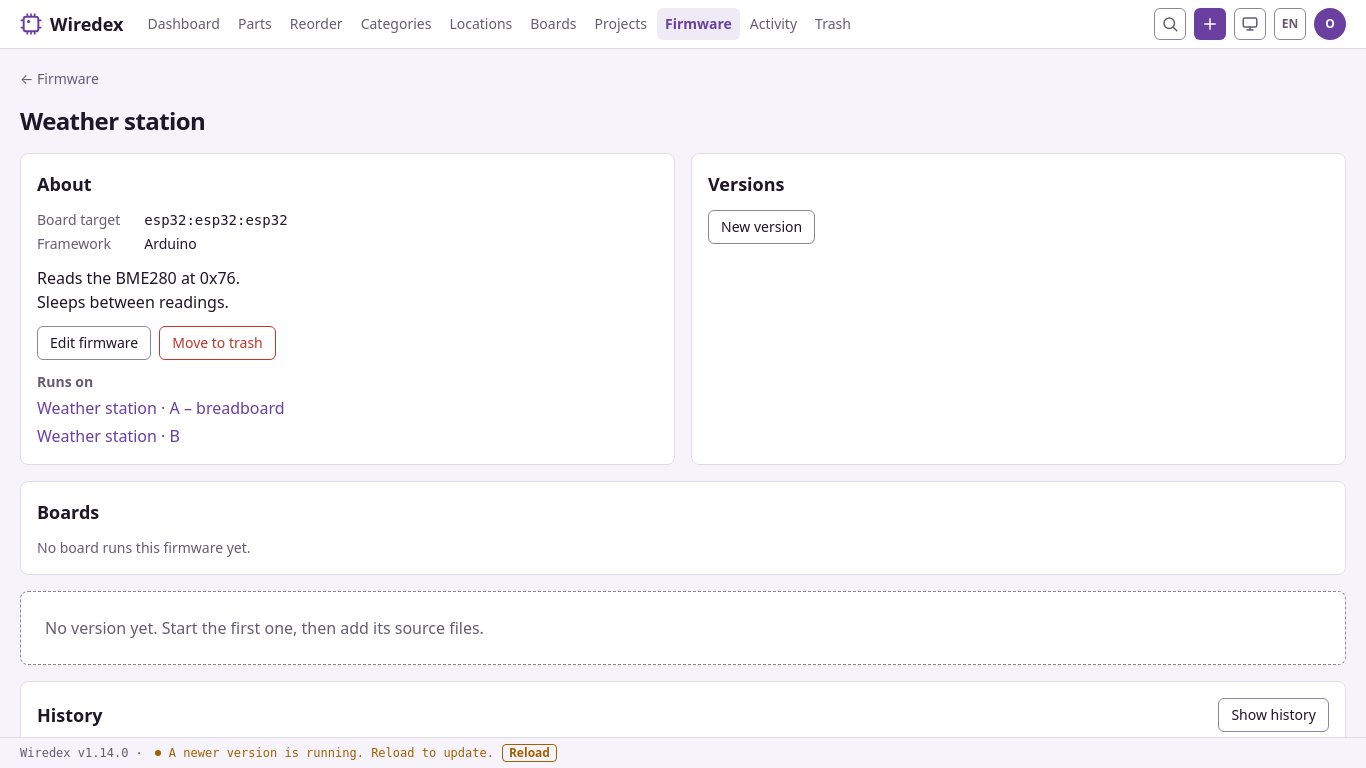
Test: FirmwarePage › keeps the firmware when the question is answered no
The image size is (1366, 768).
Click the button "Move to trash". click: (218, 343)
box: [159, 326, 276, 360]
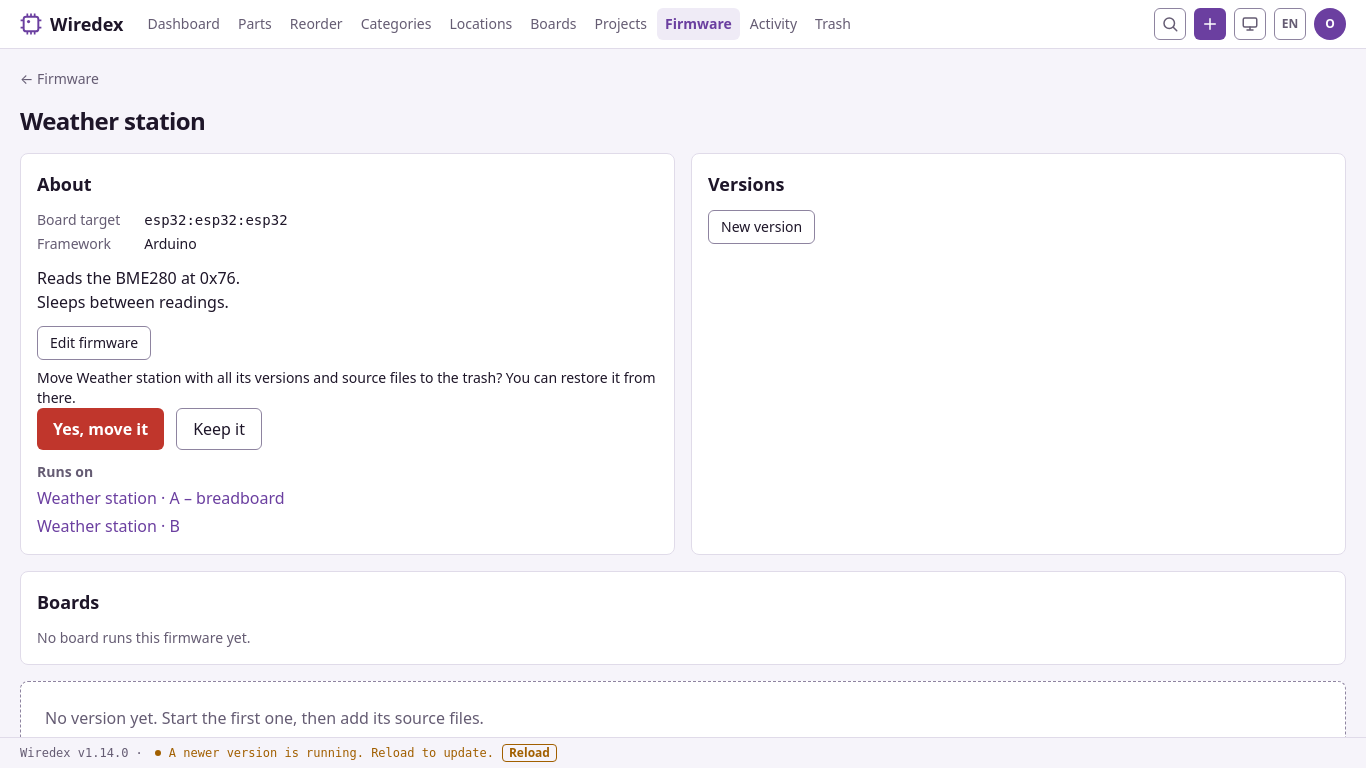
Click the button "Keep it". click: (219, 429)
box: [176, 408, 262, 450]
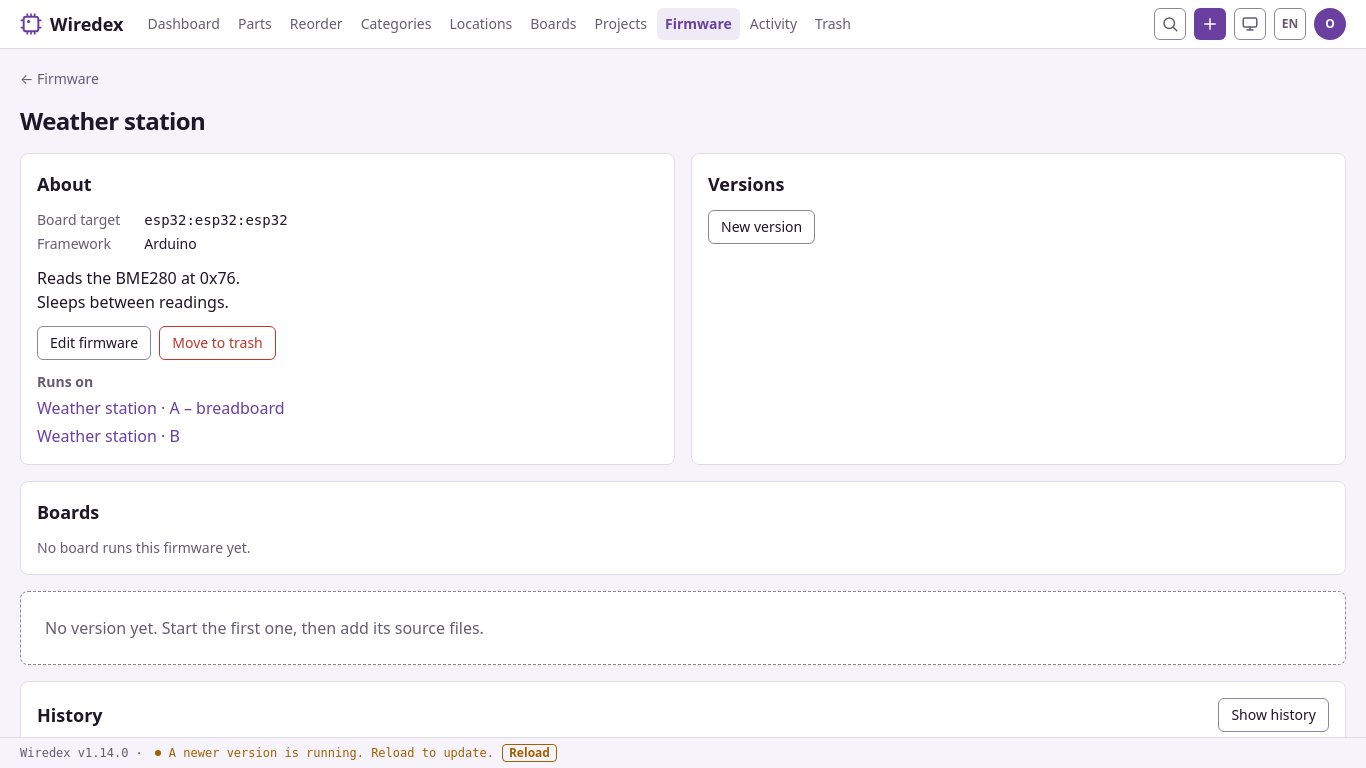
Expected: the button "Move to trash" is shown, [159, 326, 276, 360]
